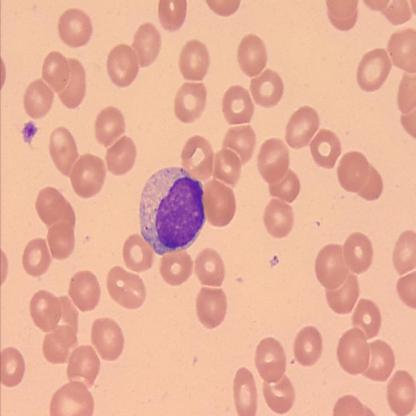Myelocyte: (142, 168, 208, 255)
